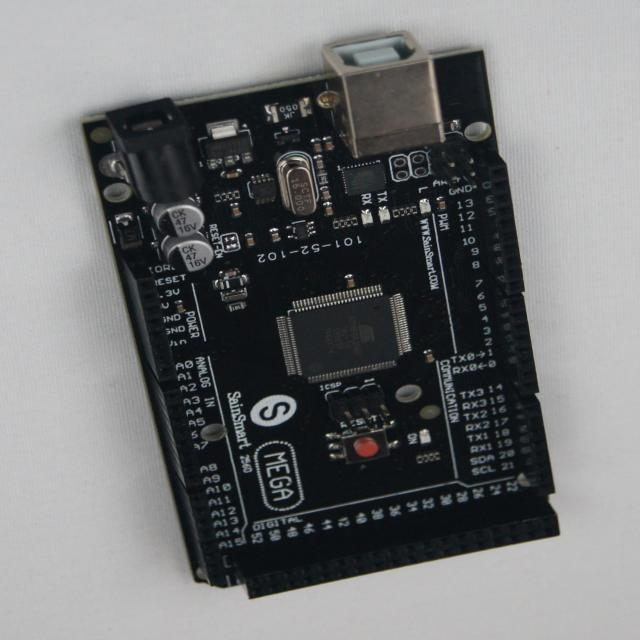Arduino Mega 2560 -Black-: (84, 33, 559, 598)
